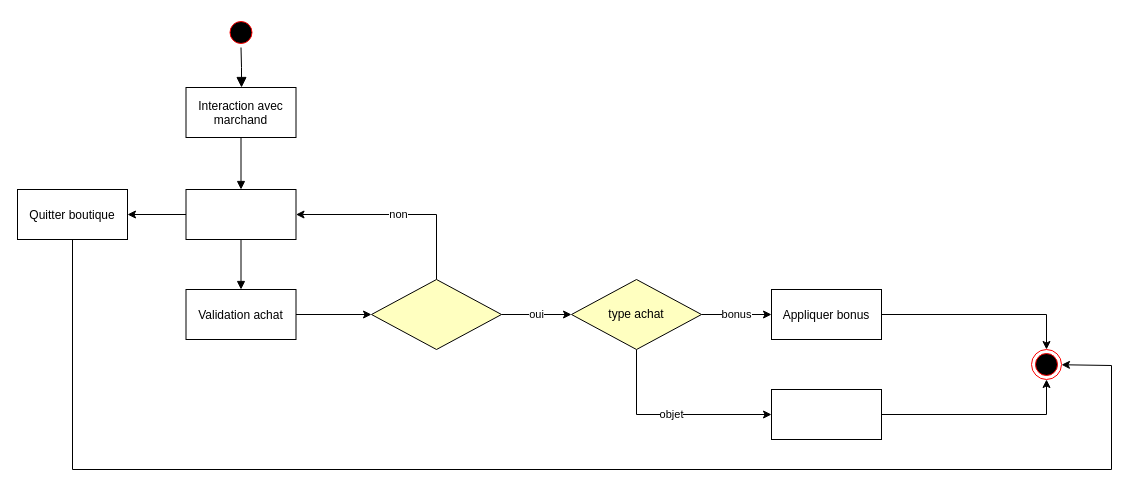
The diagram is 1137 pixels wide and 495 high, and some of its shapes have lost their labels. The box of each missing label's shape, as (x1, y1, x2, y2) in pixels:
Ajouter objet dans l'inventaire: (770, 388, 882, 440)
Nb pièces d'or > prix: (370, 278, 502, 350)
Sélection de l'objet à acheter: (185, 188, 296, 240)
